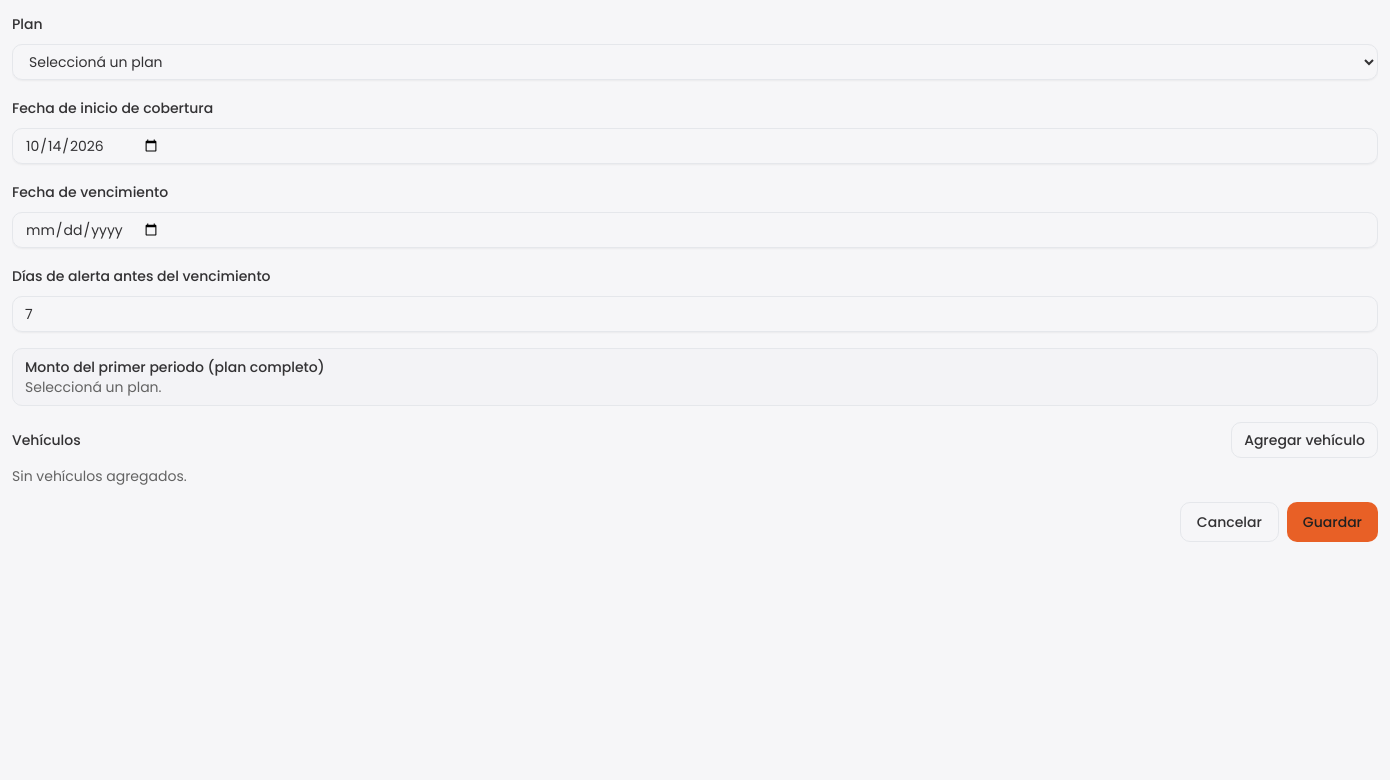
Test: <SuscripcionForm /> -- crear › does NOT create the subscripcion when the plate is already active in the branch (dry-run rejects first)
This screenshot has width=1390, height=780.
Select "Mensual cualquiera" in the dropdown with test id "suscripcion-field-plan" at (695, 62), box [12,44,1378,80]
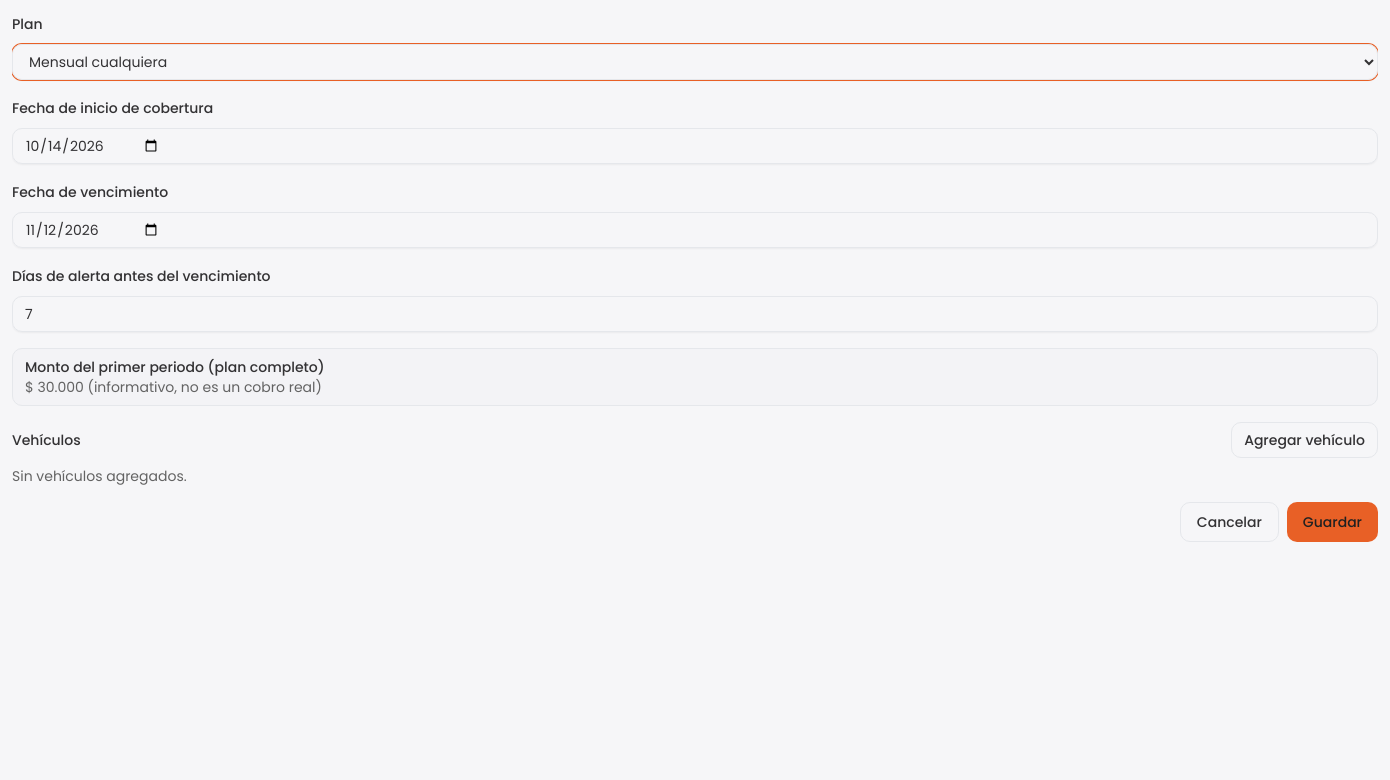
Click the button with test id "suscripcion-agregar-vehiculo".
click(1305, 440)  # box [1231,422,1378,458]
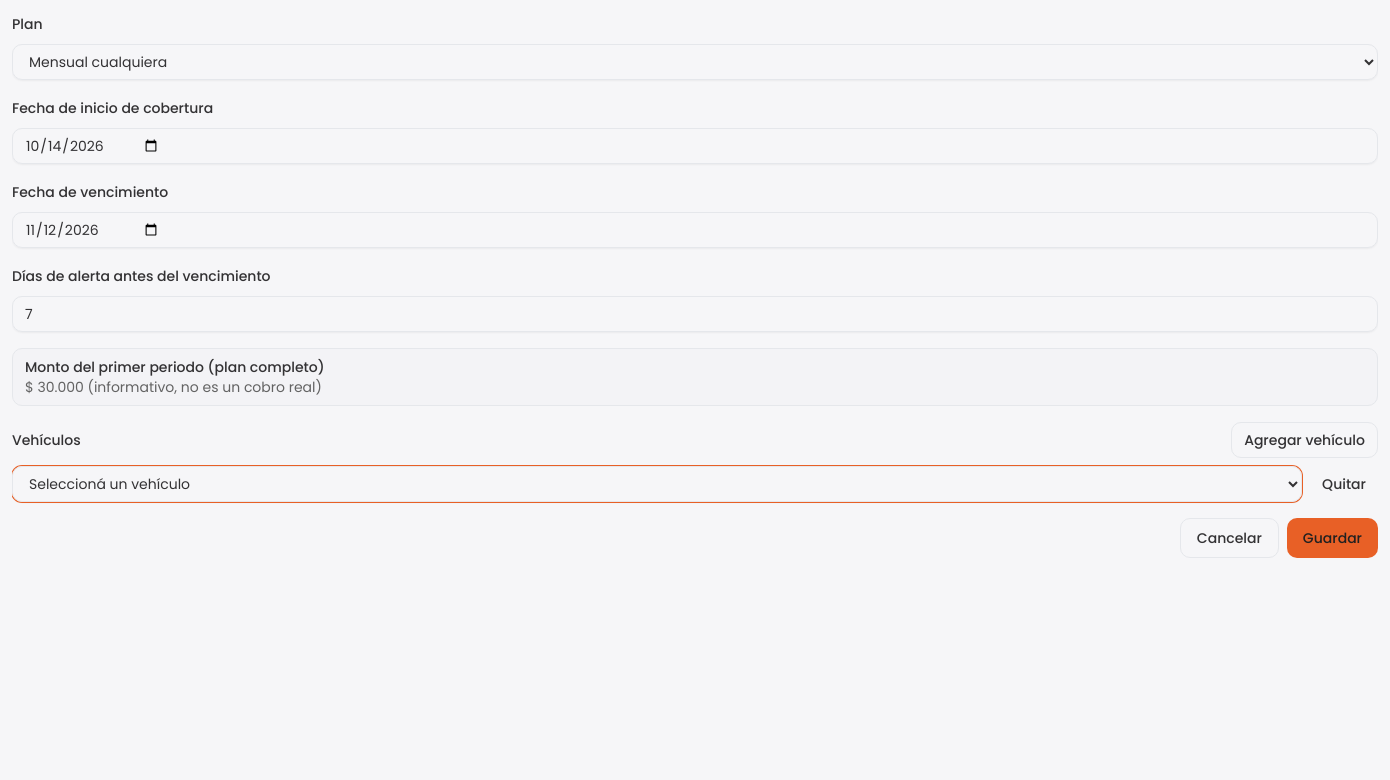
Select "ABC123" in the 2nd dropdown at (657, 484), box [12,466,1302,502]
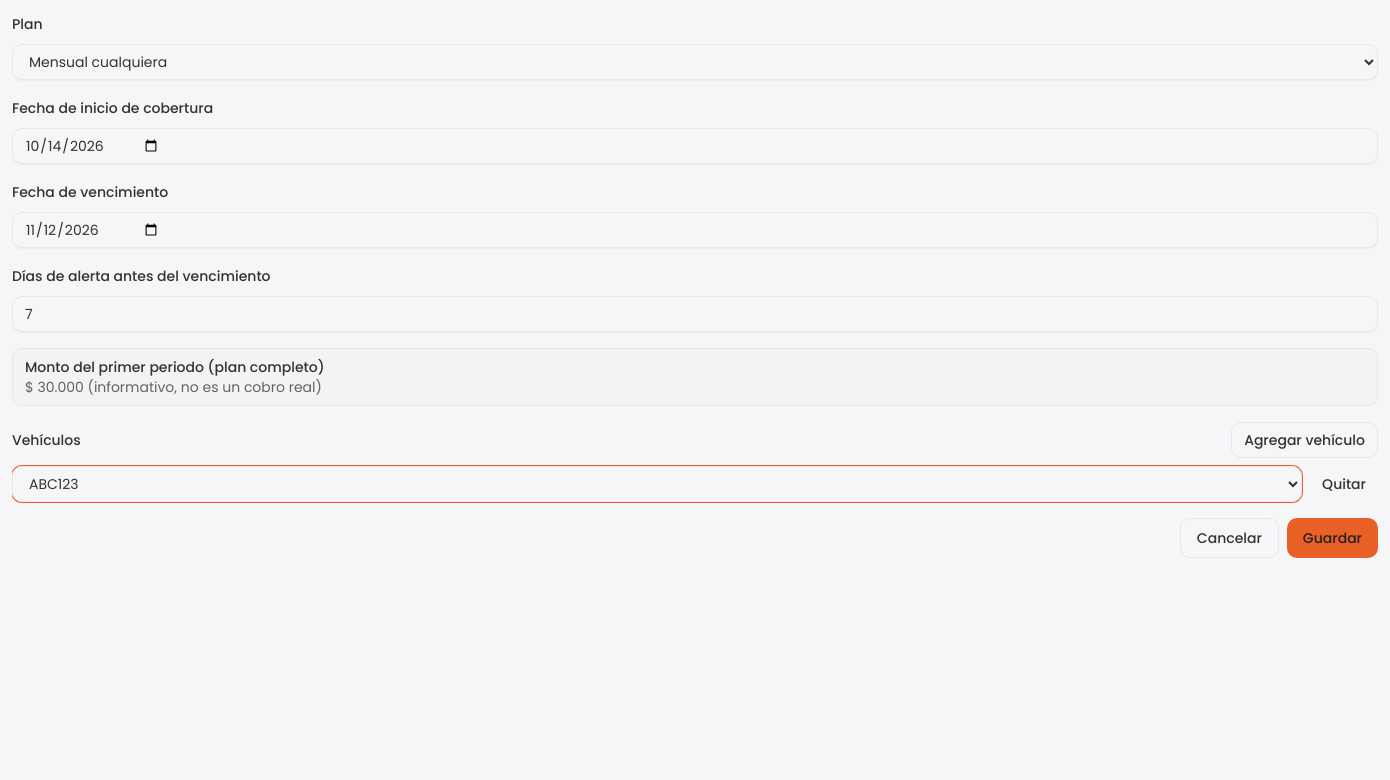
Click the button with test id "suscripcion-form-submit".
click(1332, 538)  # box [1287,518,1378,558]
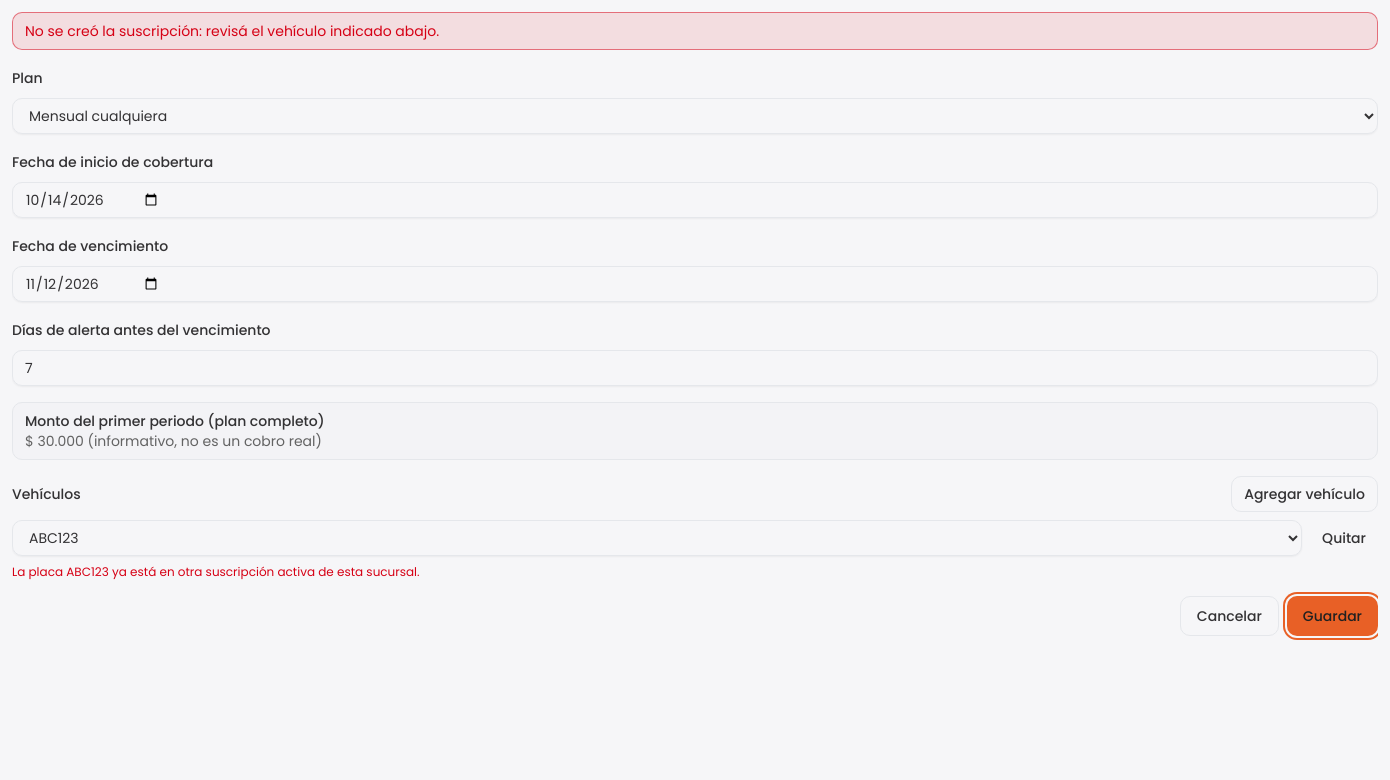
Now the message with test id "suscripcion-vehiculo-error-0" shows "ABC123", box [12,563,420,580]
Now the message with test id "suscripcion-form-submit-error" shows "No se creó la suscripción", box [25,21,439,41]
